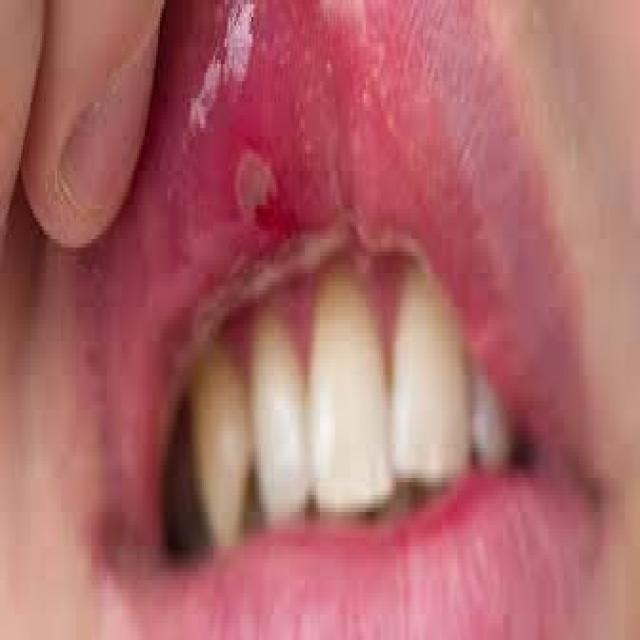processing_area: (88, 1, 584, 565)
ulcer-detection: (212, 113, 324, 282)
